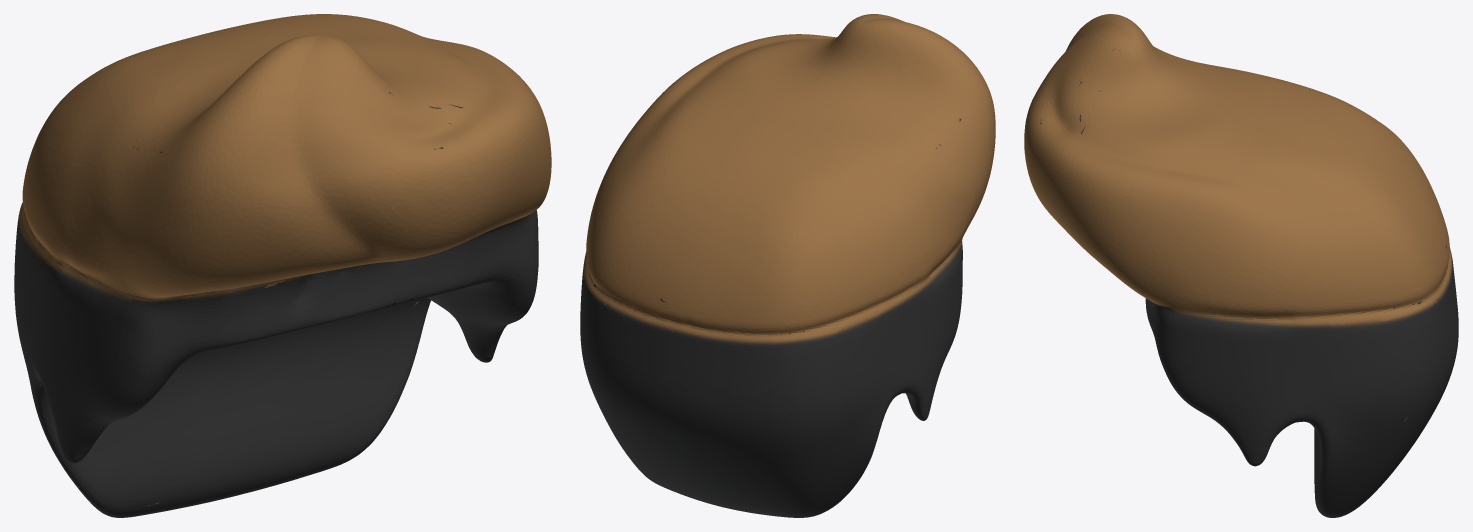
File: Male_Hair_1_3.glb
The picture shows the model from 3 angles, left to right: view 1: azimuth 30°, elevation 25°; view 2: azimuth 150°, elevation 25°; view 3: azimuth 270°, elevation 25°; orthographic projection. The views are drawn at different scales.
Parts seen in each view (by area): view 1: Plane.039; view 2: Plane.039; view 3: Plane.039.
Boxes of the visible parts, left/top/right/bottom form: Plane.039: left=14, top=14, right=551, bottom=517; Plane.039: left=580, top=14, right=995, bottom=517; Plane.039: left=1024, top=14, right=1458, bottom=517.
Size of the model in its own units: 35.72 by 44.54 by 40.3.
1 material, 1 textured.
